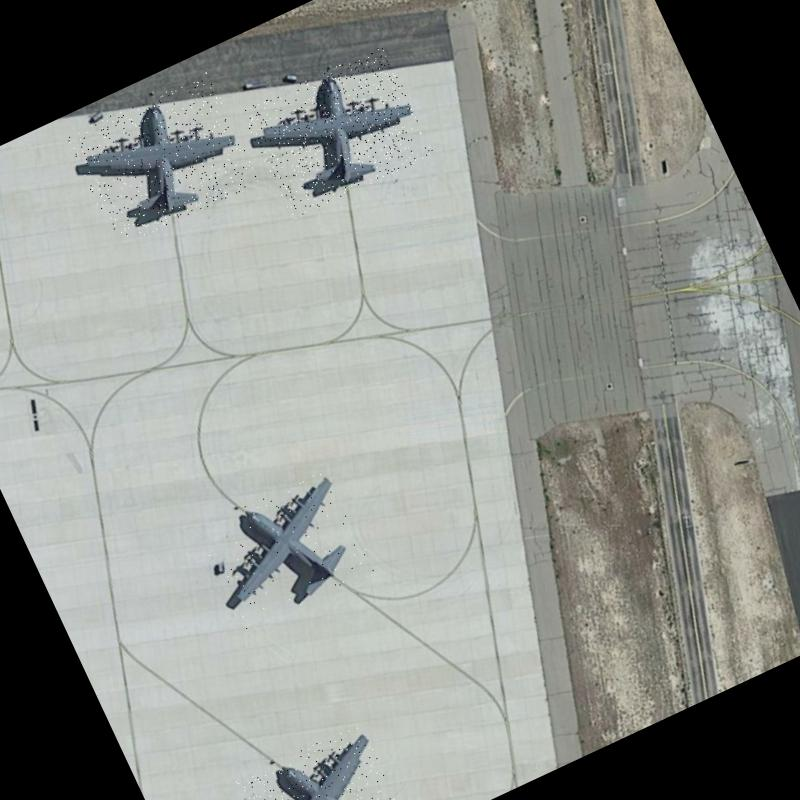A2: (65, 70, 260, 249), (241, 44, 434, 220), (196, 465, 378, 632), (235, 721, 410, 800)
